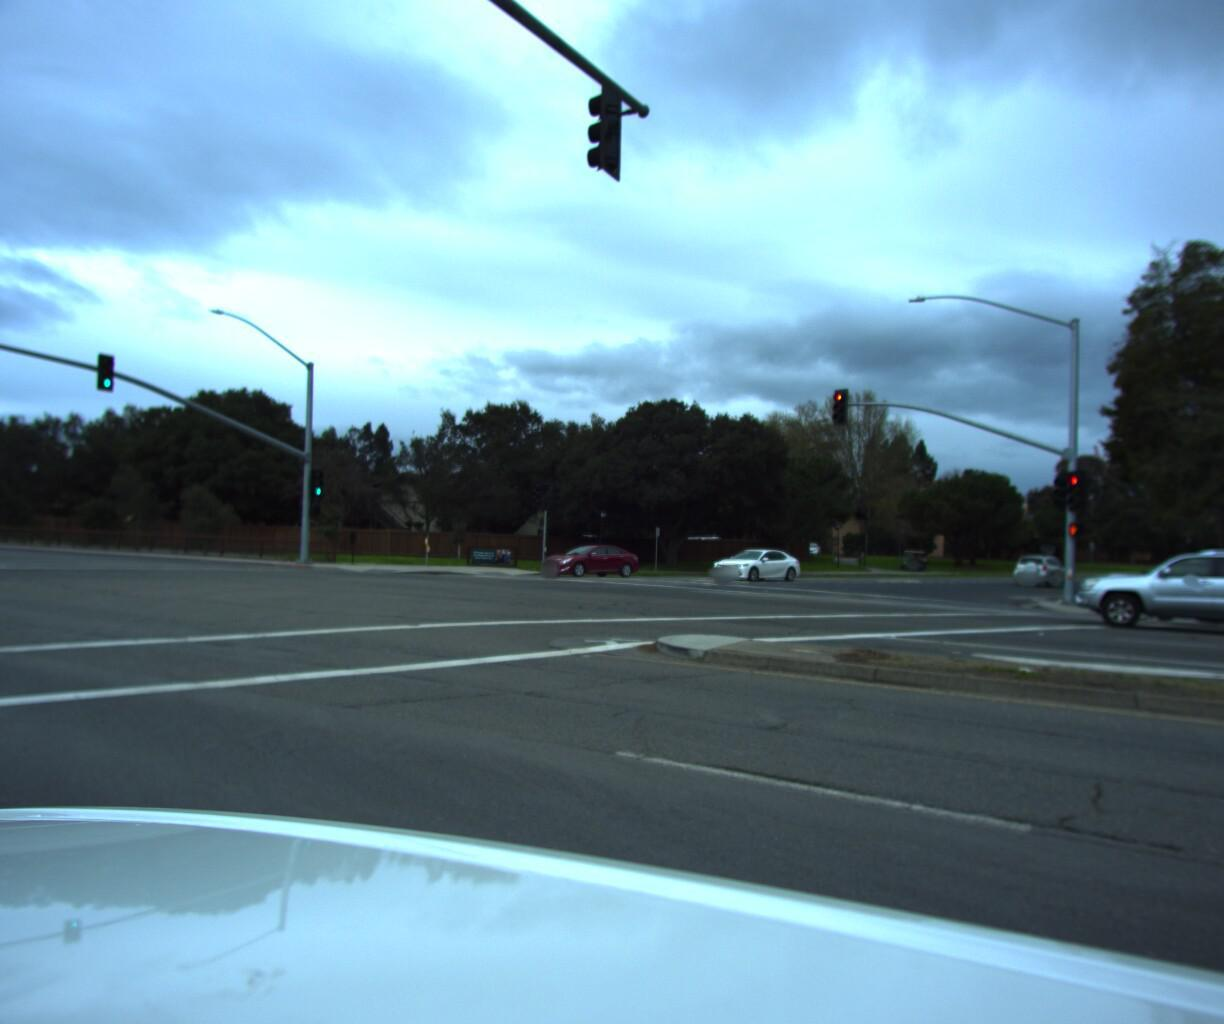car: (1072, 534, 1224, 642), (533, 534, 642, 571), (701, 540, 804, 576), (1002, 546, 1072, 581)
